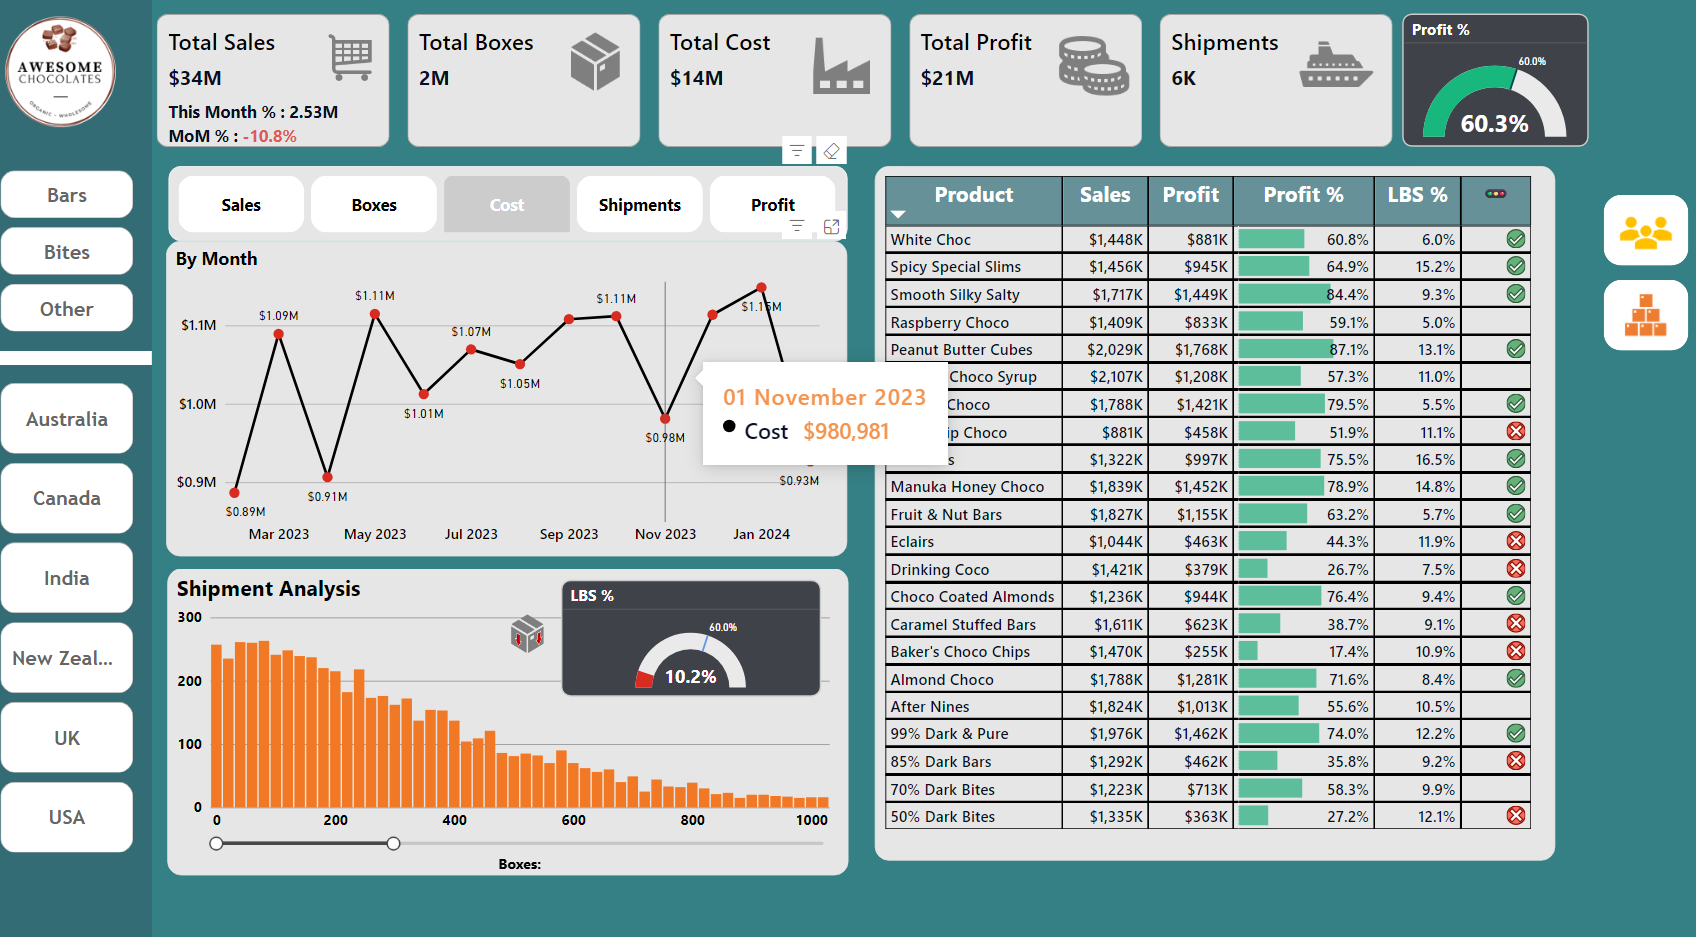

The page's visual inventory and layout, read from the dashboard file:
{"tool":"powerbi","page":{"name":"Sales","canvas":[1920,1080],"ordinal":0},"visuals":[{"type":"shape","box":[0,0,170,1080],"z":0},{"type":"lineChart","fields":{"Y":["_measures.Total Sales"],"Category":["calendar.Start of Month"]},"box":[187.5,297.9,790,367.1],"z":0,"group":"g1"},{"type":"columnChart","title":"Total Shipments by Boxes","fields":{"Category":["shipments.Boxes (bins)"],"Y":["_measures.Total Shipments"]},"box":[187.5,687.5,790,370],"z":0,"group":"g2"},{"type":"cardVisual","title":"KPI Card","fields":{"Data":["_measures.Total Sales","_measures.Total Boxes","_measures.Total Shipments","_measures.Total Cost","_measures.Total Profit"]},"box":[187.5,17.5,1450,187.5],"z":1000},{"type":"advancedSlicerVisual","fields":{"Values":["Measure Selector.Measure Selector"]},"box":[244.8,227.5,690.6,71.9],"z":1000,"group":"g1"},{"type":"gauge","fields":{"Y":["_measures.LBS %"]},"box":[779.3,704.2,182.6,121.7],"z":1000,"group":"g2"},{"type":"gauge","title":"Profit % Gauge","fields":{"Y":["_measures.Profit %"]},"box":[1650,22,248,174],"z":2000},{"type":"image","box":[684.4,725.8,94.9,80],"z":2000,"group":"g2"},{"type":"image","title":"Logo","box":[20,22.5,150,182.5],"z":3000},{"type":"group","id":"g1","title":"Group 1","box":[187.5,227.5,790,437.5],"z":4000},{"type":"group","id":"g2","title":"Group 2","box":[187.5,687.5,790,370],"z":5000},{"type":"tableEx","title":"People Table","fields":{"Values":["people.Picture","people.Sales person","_measures.Total Sales","_measures.Total Profit","_measures.Profit %","_measures.LBS %","_measures.Profit Target Indicator"]},"box":[1006,228,786,830],"z":6000},{"type":"image","title":"People","box":[1802.5,242.5,105,120],"z":8000},{"type":"image","title":"Product","box":[1802.5,380,117.5,132.5],"z":9000},{"type":"advancedSlicerVisual","title":"Category slicer","fields":{"Values":["products.Category"]},"box":[8.8,228.8,152.5,267.5],"z":10000},{"type":"advancedSlicerVisual","title":"Location slicer","fields":{"Values":["locations.Geo"]},"box":[6,564,154,436],"z":11000},{"type":"shape","box":[12,502,148,58],"z":12000}]}

Visuals, with their boxes in screenshot pixels (x1, y1, x2, y2), scaled from the page's 1920x1080 canvas onto the 1696x937 screenshot:
shape: [0, 0, 150, 936]
lineChart - _measures.Total Sales x calendar.Start of Month: [166, 258, 863, 577]
"Total Shipments by Boxes" columnChart: [166, 596, 863, 917]
"KPI Card" cardVisual: [166, 15, 1446, 178]
advancedSlicerVisual - Measure Selector.Measure Selector: [216, 197, 826, 260]
gauge - _measures.LBS %: [688, 611, 850, 717]
"Profit % Gauge" gauge: [1458, 19, 1677, 170]
image: [605, 630, 688, 699]
"Logo" image: [18, 20, 150, 178]
"Group 1" group: [166, 197, 863, 577]
"Group 2" group: [166, 596, 863, 917]
"People Table" tableEx: [889, 198, 1583, 918]
"People" image: [1592, 210, 1685, 315]
"Product" image: [1592, 330, 1695, 445]
"Category slicer" advancedSlicerVisual: [8, 199, 142, 431]
"Location slicer" advancedSlicerVisual: [5, 489, 141, 868]
shape: [11, 436, 141, 486]
